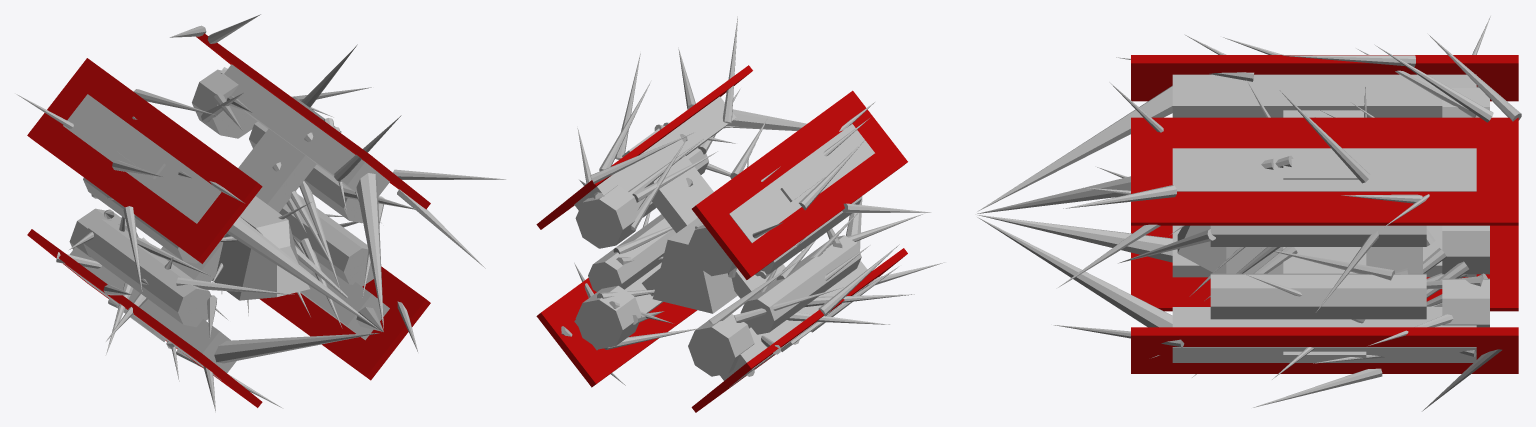
3 views of the same model, side by side, from view 1: azimuth 30°, elevation 25°; view 2: azimuth 150°, elevation 25°; view 3: azimuth 270°, elevation 25° (orthographic). The views are drawn at different scales.
Parts seen in each view (by area): view 1: DFA; view 2: DFA; view 3: DFA.
Part boxes in pixels (<box>): DFA: <box>16,14,505,411</box>; DFA: <box>536,16,944,412</box>; DFA: <box>976,16,1521,411</box>.
Bounding box in the file's own units: 11.59 × 10.81 × 14.61.
